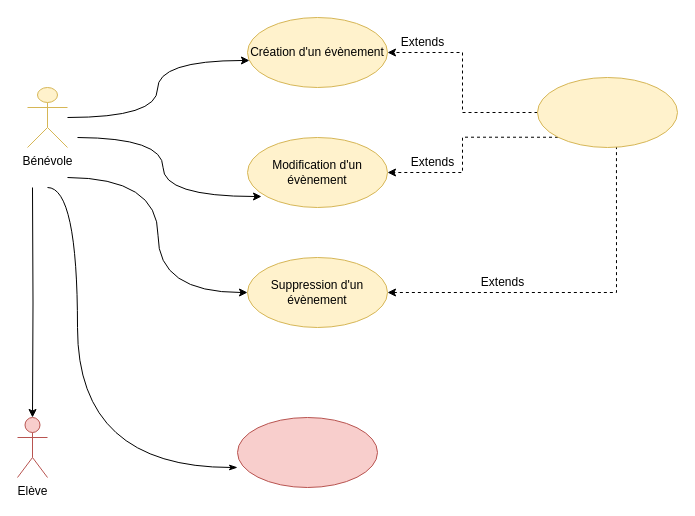
Some shapes in this 695 by 516 pixel diagram are drawn without their labels. The centre of each missing label's shape, as x and y in pixels:
"Consulter les détails de l'évènement" goes at [307,452].
"Générer une notification" goes at [607,112].
